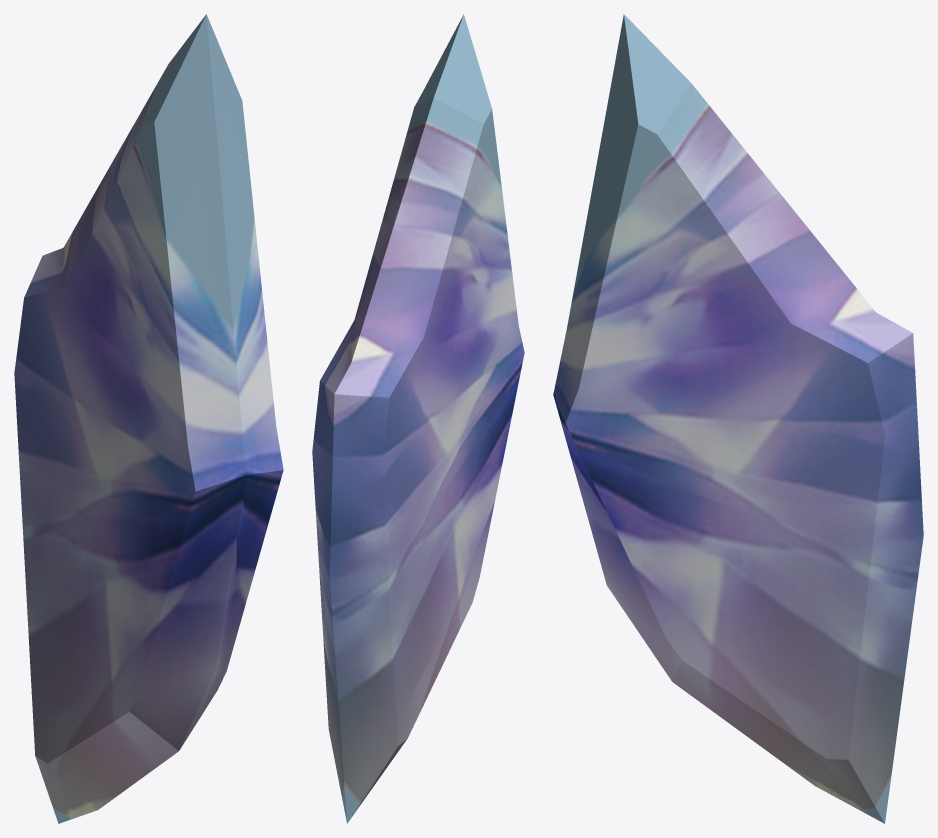
File: Skill 1 Mirror 2.glb
The picture shows the model from 3 angles, left to right: view 1: azimuth 30°, elevation 25°; view 2: azimuth 150°, elevation 25°; view 3: azimuth 270°, elevation 25°; orthographic projection. The views are drawn at different scales.
Visible parts, largest first — view 1: cyrene_00_skill01_mirror02_LOD0; view 2: cyrene_00_skill01_mirror02_LOD0; view 3: cyrene_00_skill01_mirror02_LOD0.
Boxes of the visible parts, x1,y1,x2,y2 form: cyrene_00_skill01_mirror02_LOD0: (14,14,283,823); cyrene_00_skill01_mirror02_LOD0: (312,14,524,823); cyrene_00_skill01_mirror02_LOD0: (553,14,923,823).
Bounding box in the file's own units: 0.1461 × 1.46 × 0.6032.
1 material, 1 textured.
